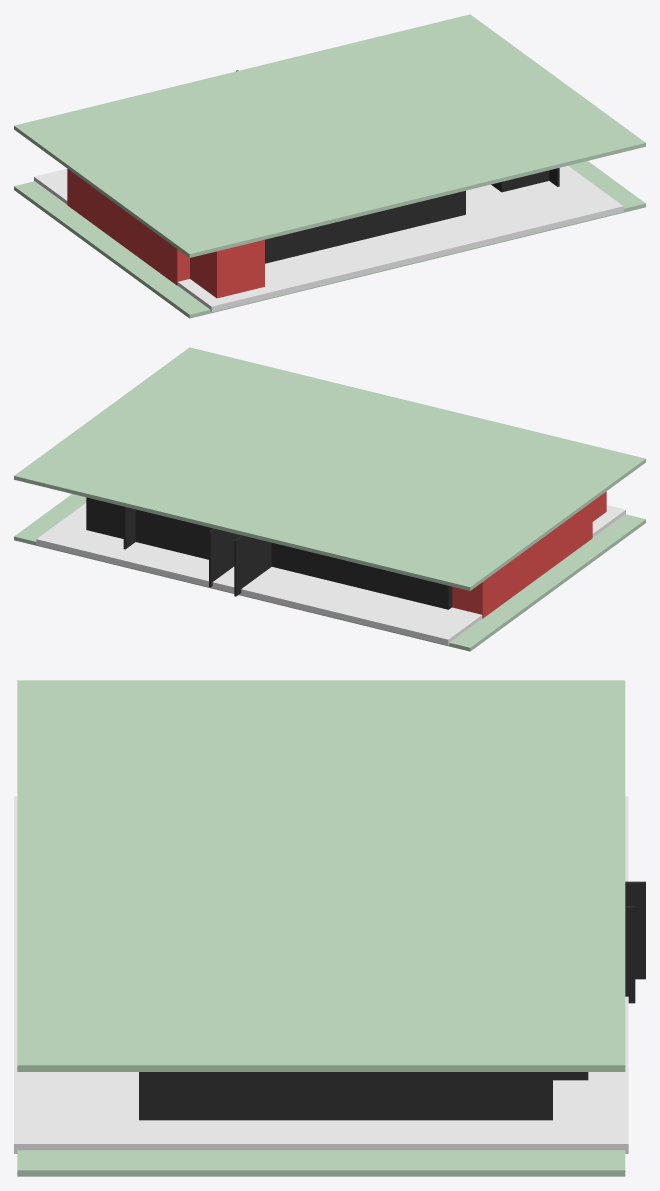
File: Basic.glb
3 views of the same model, one above another, from view 1: azimuth 30°, elevation 25°; view 2: azimuth 150°, elevation 25°; view 3: azimuth 270°, elevation 25° (orthographic). The views are drawn at different scales.
Visible parts, largest first — view 1: roof, OfficeMapModel, OfficeMapModel031; view 2: roof, OfficeMapModel, OfficeMapModel007, OfficeMapModel013; view 3: roof, OfficeMapModel.
Boxes of the visible parts, x1,y1,x2,y2 form: roof: (14,14,645,257); OfficeMapModel: (14,70,645,318); OfficeMapModel031: (190,239,264,298); roof: (14,347,645,590); OfficeMapModel: (14,494,645,651); OfficeMapModel007: (135,509,212,559); OfficeMapModel013: (123,506,135,549); roof: (17,680,625,1071); OfficeMapModel: (14,796,645,1176).
Size of the model in its own units: 60 by 9.24 by 41.6.
